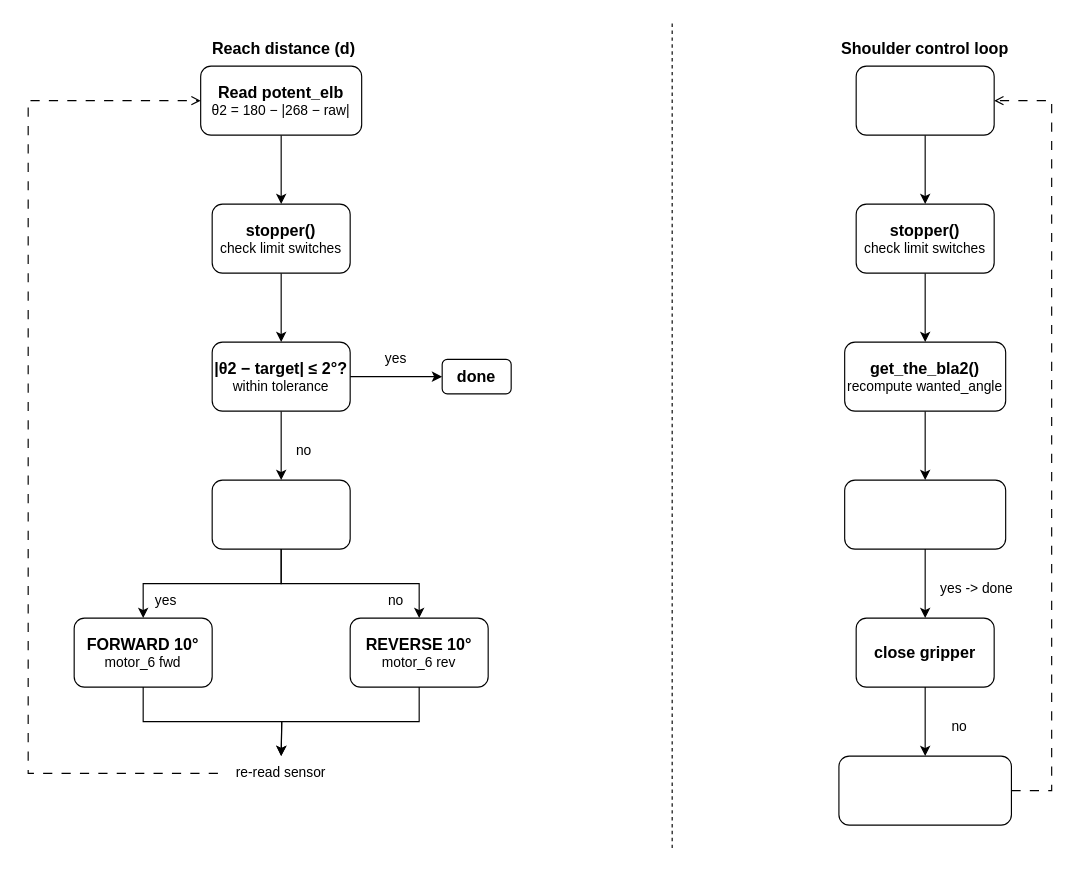
Some shapes in this 1081 by 869 pixel diagram are drawn without their labels. Each missing label, with the box of its shape:
angle > 9 → FWD 50 ° angle < 9 → REV 50°: (838, 755, 1011, 825)
Read potent θ2 = raw - 62°: (855, 65, 994, 135)
wanted_angle ≈ 9°? rounded to integer: (844, 479, 1006, 549)
θ2 > target? direction decision: (211, 479, 350, 549)
